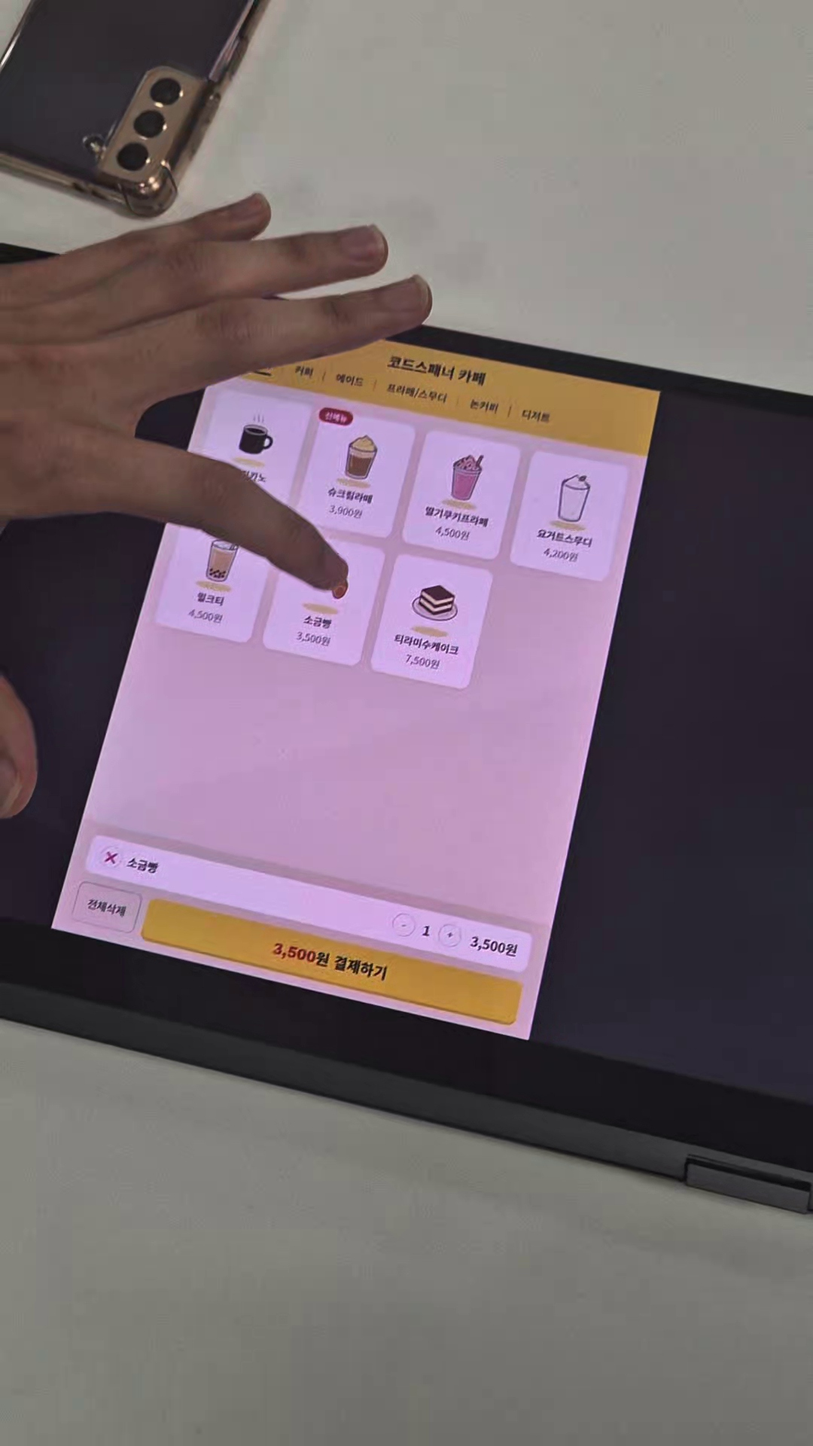action_button: (139, 897, 524, 1027), (69, 881, 143, 934)
cart_item: (82, 834, 534, 975)
category_tab: (383, 381, 450, 405), (519, 408, 552, 426), (468, 397, 500, 415), (333, 372, 365, 388), (292, 364, 317, 380)
menu_back: (259, 529, 388, 668), (151, 508, 281, 645), (368, 553, 494, 690), (186, 389, 313, 521), (399, 429, 522, 562), (507, 450, 630, 583), (293, 410, 418, 540)
menu_name: (390, 631, 462, 659), (421, 504, 493, 531), (534, 528, 594, 549), (325, 485, 375, 507), (193, 589, 227, 609), (301, 611, 335, 631)
menu_price: (292, 629, 333, 650), (401, 652, 442, 672), (185, 606, 225, 626), (540, 546, 581, 565), (433, 524, 473, 543), (326, 502, 365, 521)
